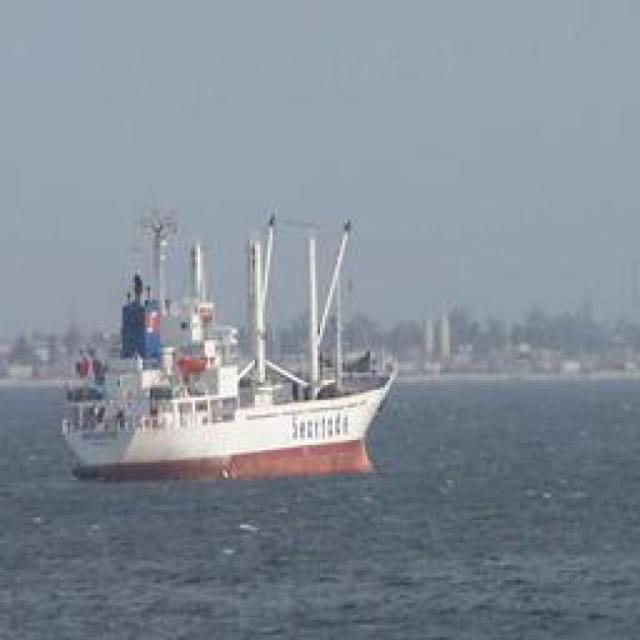boat: (28, 312, 447, 503)
